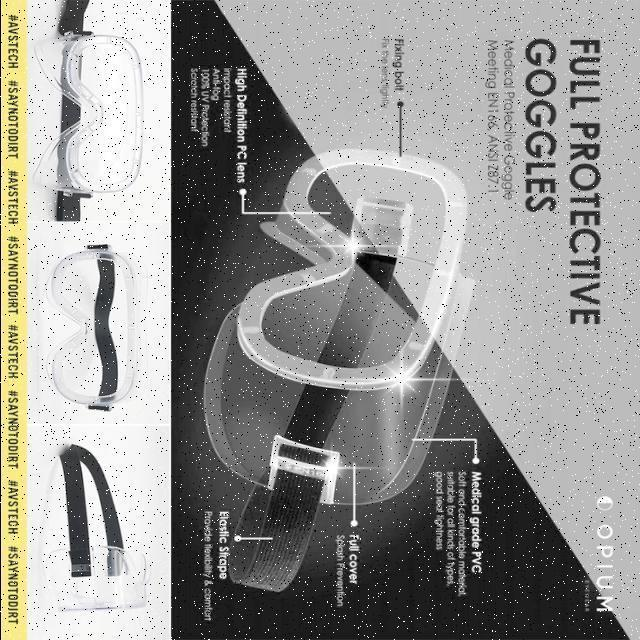Goggles: (208, 135, 477, 594), (32, 12, 168, 222), (33, 436, 165, 628), (32, 235, 162, 417)
